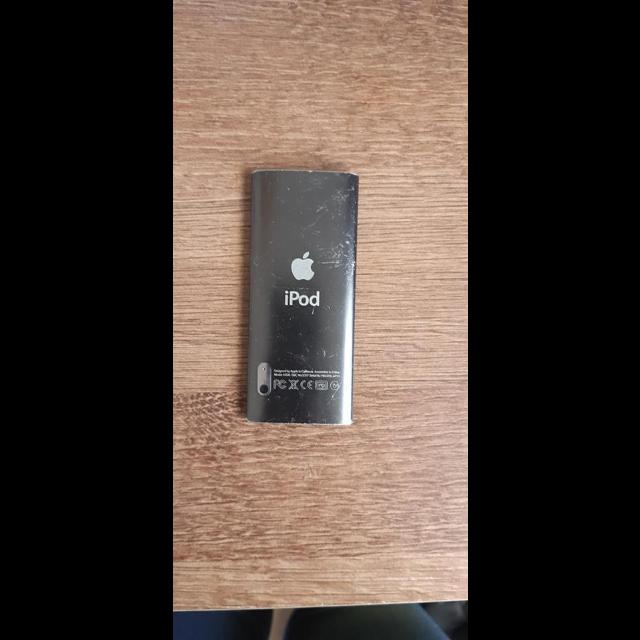Music-Player: (234, 160, 380, 440)
